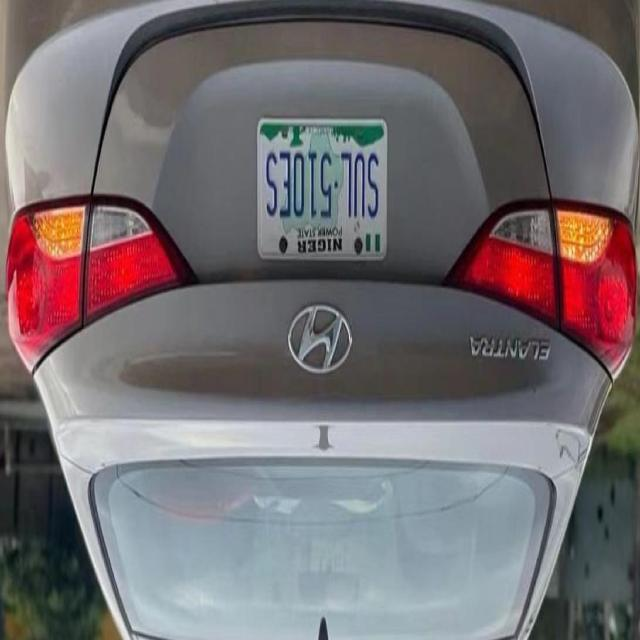Nigerian License Plate - vdataset benjamin-daria: (255, 112, 390, 270)
